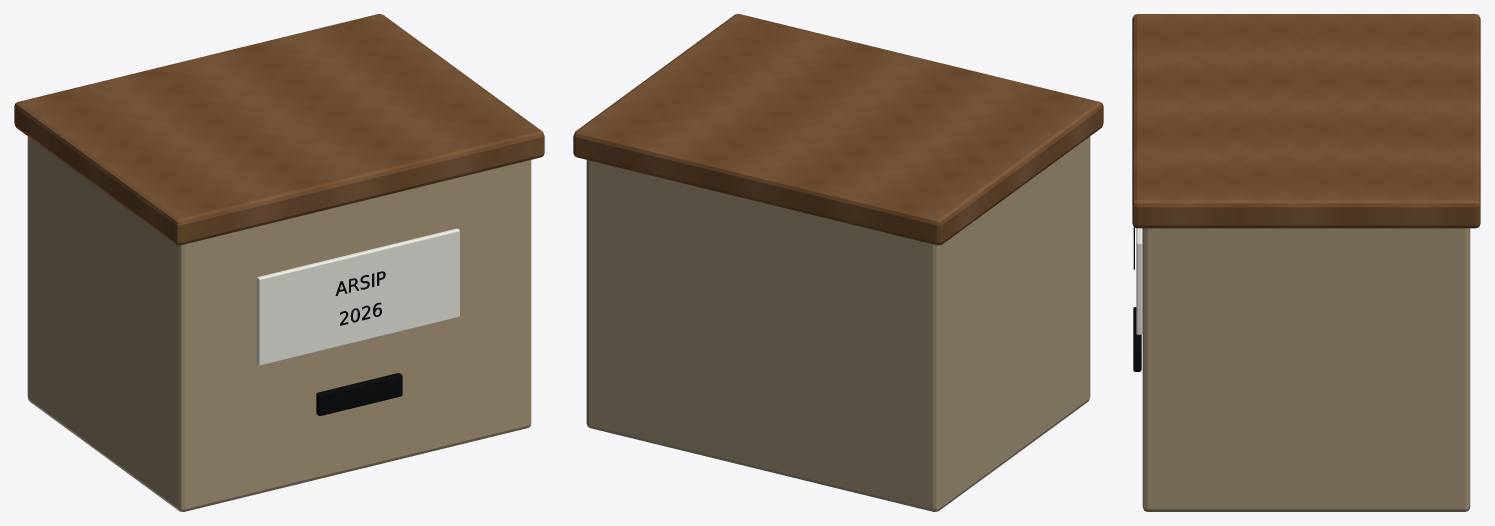
File: OAA_Warehouse_ArchiveBox.fbx
3 renders of one model, left to right at view 1: azimuth 30°, elevation 25°; view 2: azimuth 150°, elevation 25°; view 3: azimuth 270°, elevation 25°, orthographic. The views are drawn at different scales.
Visible parts, largest first — view 1: Body; view 2: Body; view 3: Body.
Boxes of the visible parts, x1,y1,x2,y2 form: Body: (14,14,544,511); Body: (573,14,1103,511); Body: (1132,14,1480,511).
Size of the model in its own units: 0.44 by 0.34 by 0.34.
